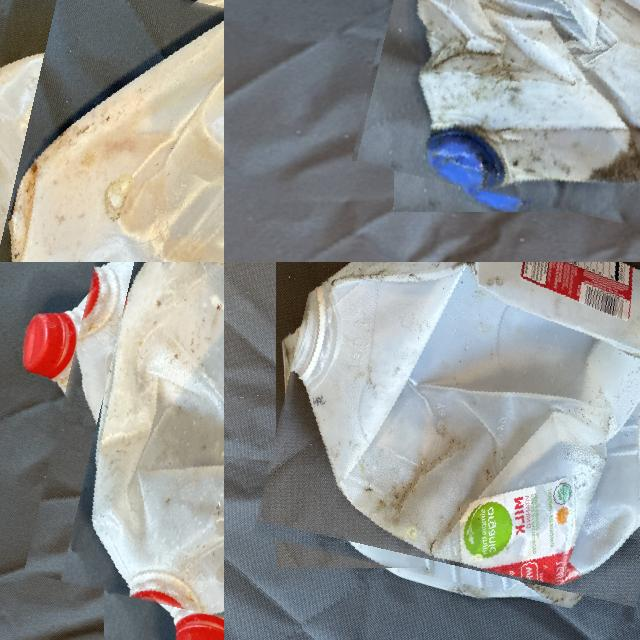milk-jug: (271, 262, 640, 603), (44, 262, 224, 640), (369, 0, 640, 226), (0, 0, 224, 262)
